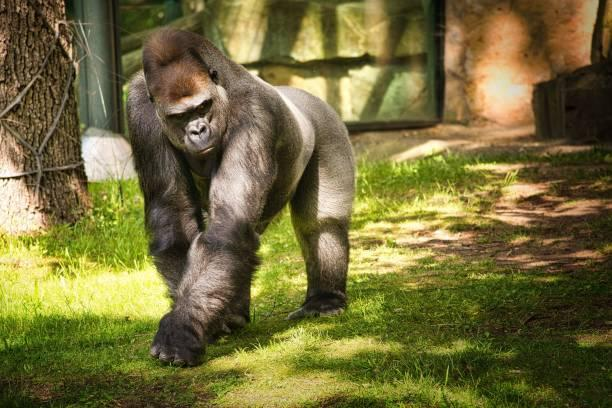gorille_Autres: (113, 19, 381, 360)
